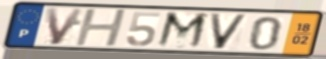0: (248, 15, 285, 51)
5: (125, 11, 164, 48)
H: (73, 8, 130, 48)
M: (154, 10, 212, 51)
V: (44, 7, 87, 47), (207, 12, 251, 51)
